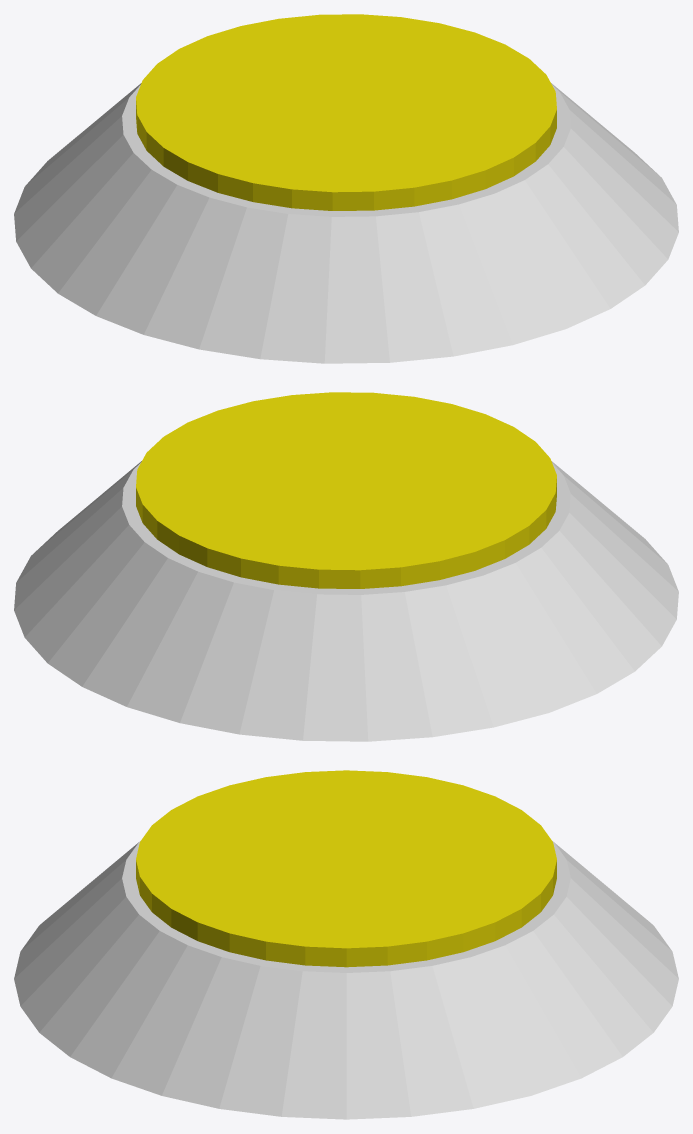
Rendered from buttonYellow.glb.
3 renders of one model, top to bottom at view 1: azimuth 30°, elevation 25°; view 2: azimuth 150°, elevation 25°; view 3: azimuth 270°, elevation 25°, orthographic.
Parts seen in each view (by area): view 1: Cylinder, Cylinder.001; view 2: Cylinder, Cylinder.001; view 3: Cylinder, Cylinder.001.
Part boxes in pixels (left/top/right/bottom): Cylinder: left=14, top=83, right=678, bottom=363; Cylinder.001: left=136, top=14, right=556, bottom=210; Cylinder: left=14, top=461, right=678, bottom=741; Cylinder.001: left=136, top=392, right=556, bottom=588; Cylinder: left=14, top=841, right=678, bottom=1119; Cylinder.001: left=136, top=770, right=556, bottom=967.
Size of the model in its own units: 3 by 0.596 by 3.
